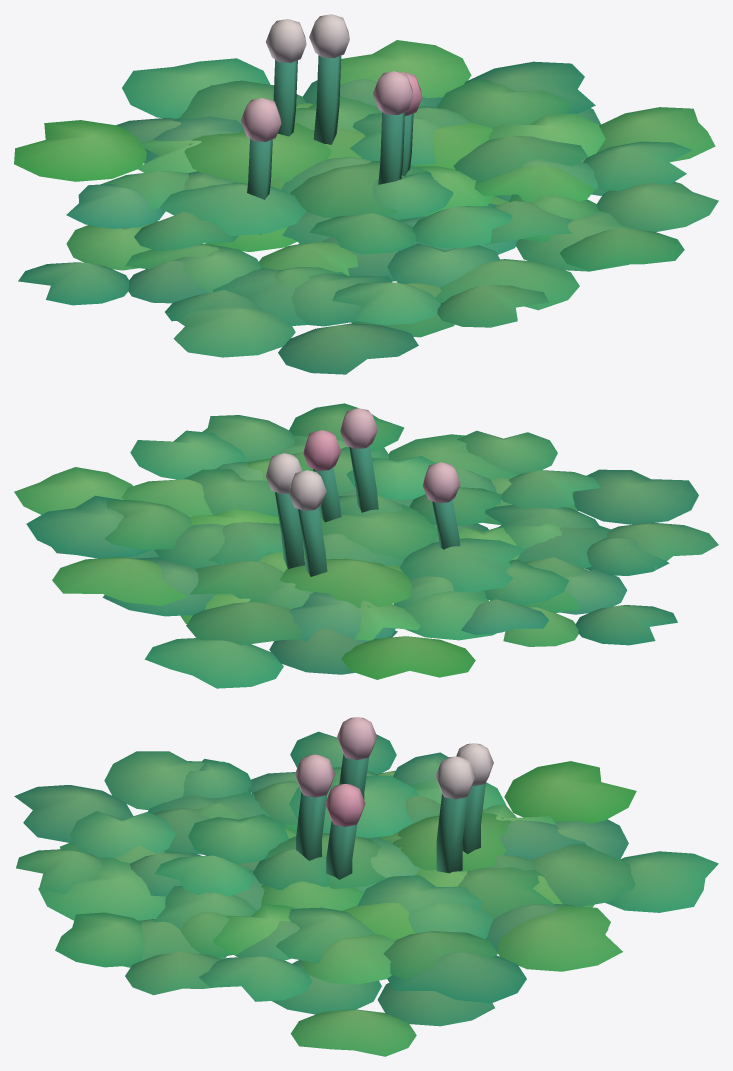
The model's file is verdant_ground_clover_patch.glb.
The picture shows the model from 3 angles, top to bottom: view 1: azimuth 30°, elevation 25°; view 2: azimuth 150°, elevation 25°; view 3: azimuth 270°, elevation 25°; orthographic projection. The views are drawn at different scales.
Visible parts, largest first — view 1: verdant_ground_clover_patch; view 2: verdant_ground_clover_patch; view 3: verdant_ground_clover_patch.
Boxes of the visible parts, x1,y1,x2,y2 form: verdant_ground_clover_patch: (14, 14, 718, 374); verdant_ground_clover_patch: (14, 403, 718, 688); verdant_ground_clover_patch: (14, 717, 718, 1056).
Bounding box in the file's own units: 1.3 × 0.282 × 1.19.
